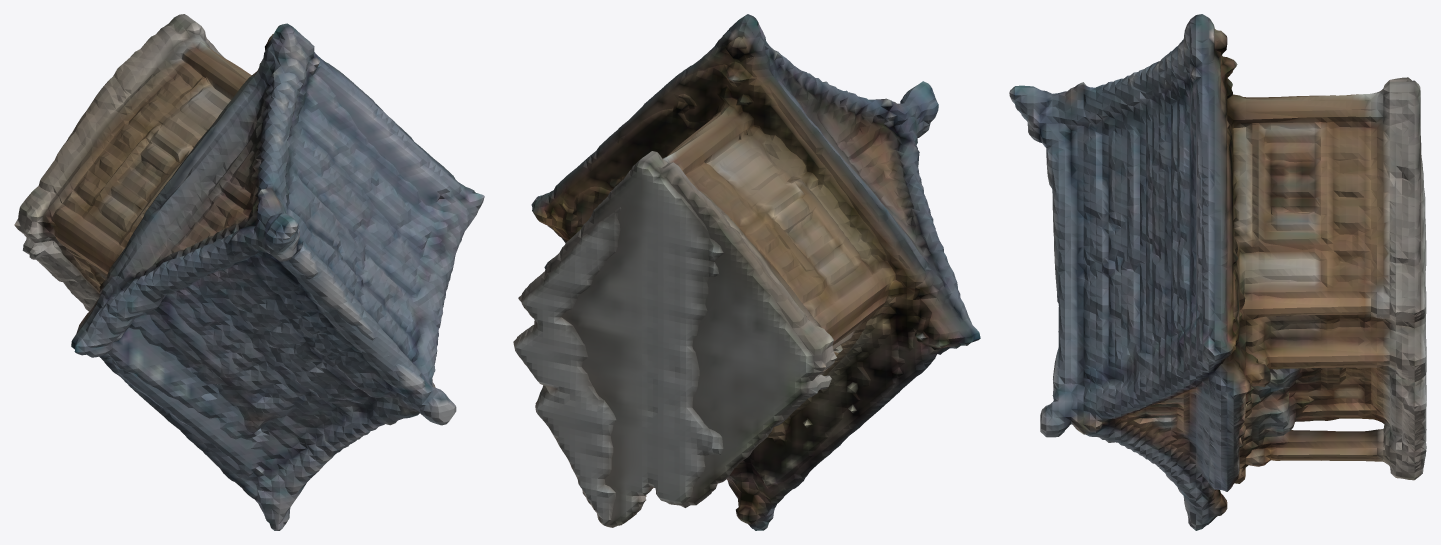
File: shrine_01_simple_raw.glb
3 views of the same model, side by side, from view 1: azimuth 30°, elevation 25°; view 2: azimuth 150°, elevation 25°; view 3: azimuth 270°, elevation 25° (orthographic). The views are drawn at different scales.
Visible parts, largest first — view 1: world; view 2: world; view 3: world.
Boxes of the visible parts, x1,y1,x2,y2 form: world: (14,14,484,530); world: (513,14,980,530); world: (1009,14,1426,530).
Bounding box in the file's own units: 1.11 × 1.26 × 0.9161.
